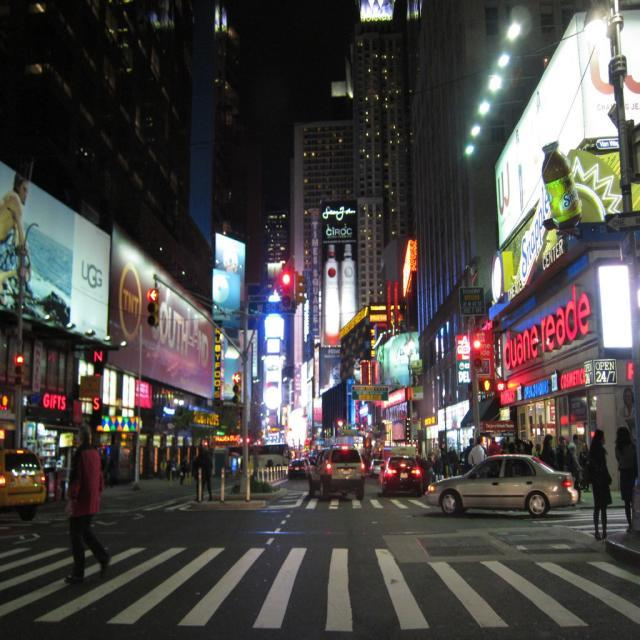off traffic light: (296, 271, 306, 303)
traffic light: (145, 290, 159, 330), (282, 271, 293, 308), (231, 373, 242, 406), (474, 338, 485, 370), (14, 356, 23, 388), (1, 395, 9, 411)
